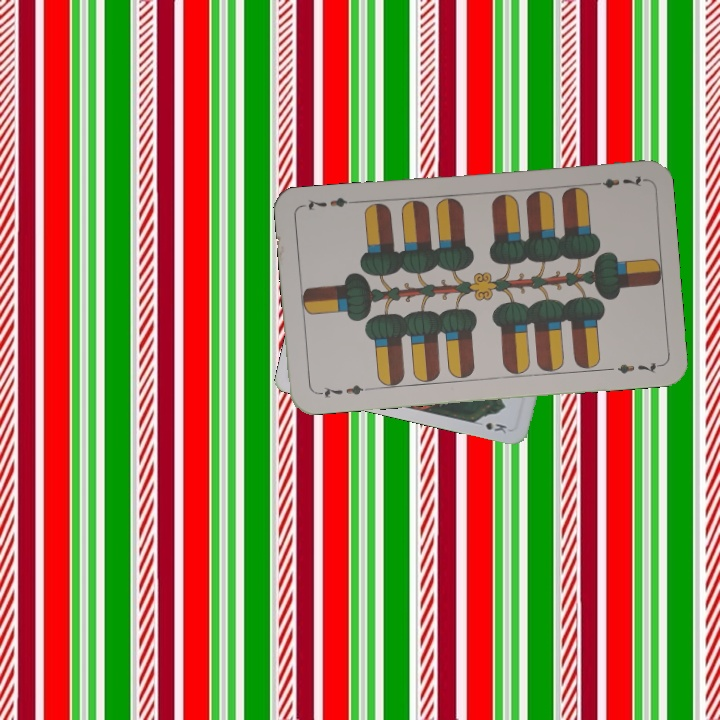E7: (313, 381, 372, 401), (587, 172, 647, 191)
